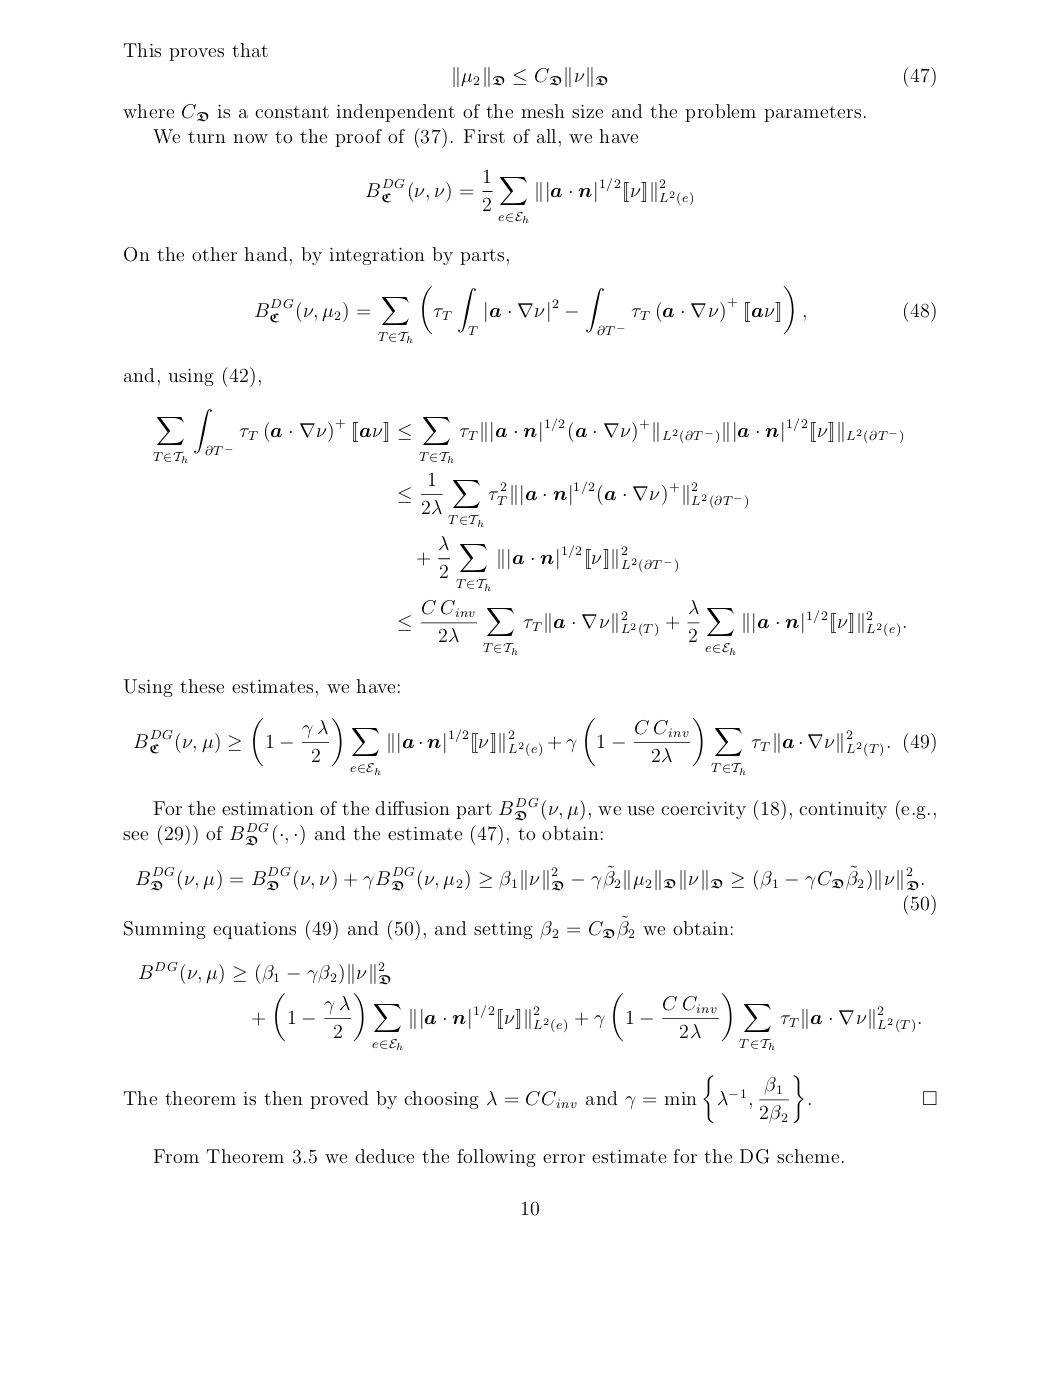formula: (134, 717, 935, 775), (153, 408, 902, 462), (255, 285, 935, 343), (252, 992, 919, 1050), (398, 598, 905, 655), (136, 864, 923, 890), (398, 471, 747, 527), (366, 168, 692, 223), (417, 535, 676, 591), (452, 66, 935, 87), (139, 960, 390, 985)
